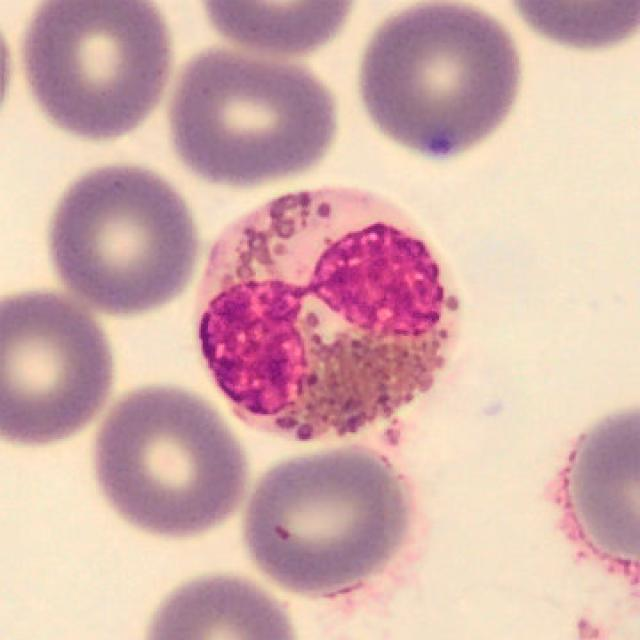Eosinofilo: (197, 187, 459, 443)
